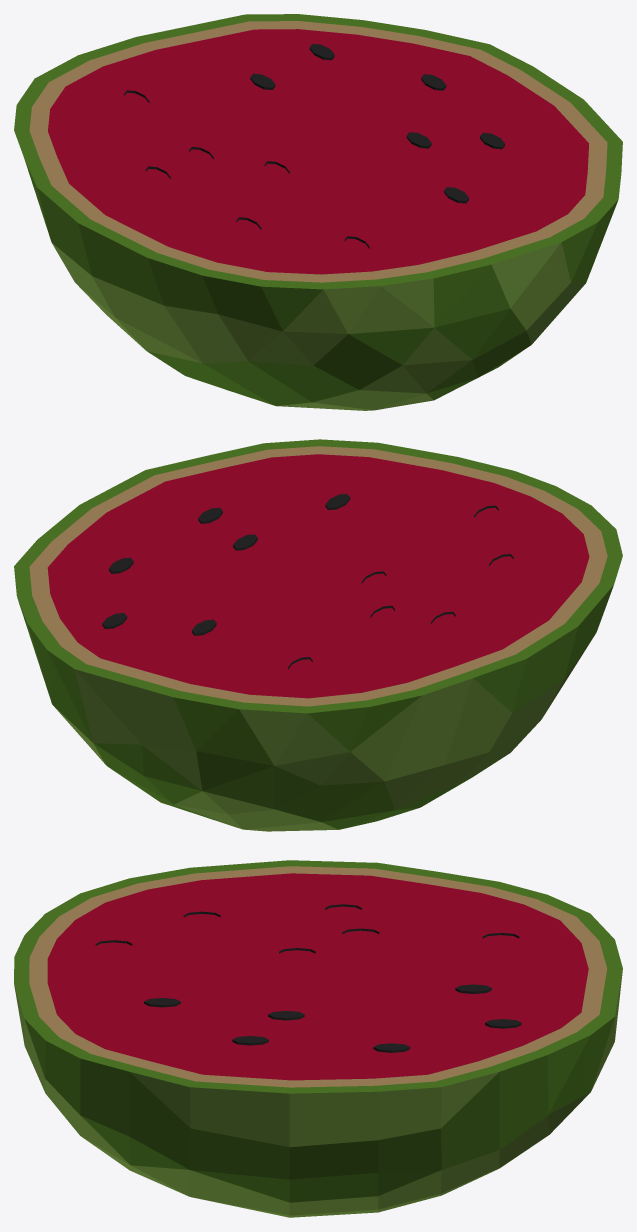
Rendered from watermelonhull 1.fbx.
3 views of the same model, one above another, from view 1: azimuth 30°, elevation 25°; view 2: azimuth 150°, elevation 25°; view 3: azimuth 270°, elevation 25° (orthographic). The views are drawn at different scales.
Parts seen in each view (by area): view 1: watermelon_half; view 2: watermelon_half; view 3: watermelon_half.
Boxes of the visible parts, x1,y1,x2,y2 form: watermelon_half: (14,14,622,410); watermelon_half: (14,439,622,831); watermelon_half: (14,860,622,1217).
Size of the model in its own units: 374 by 162 by 413.
